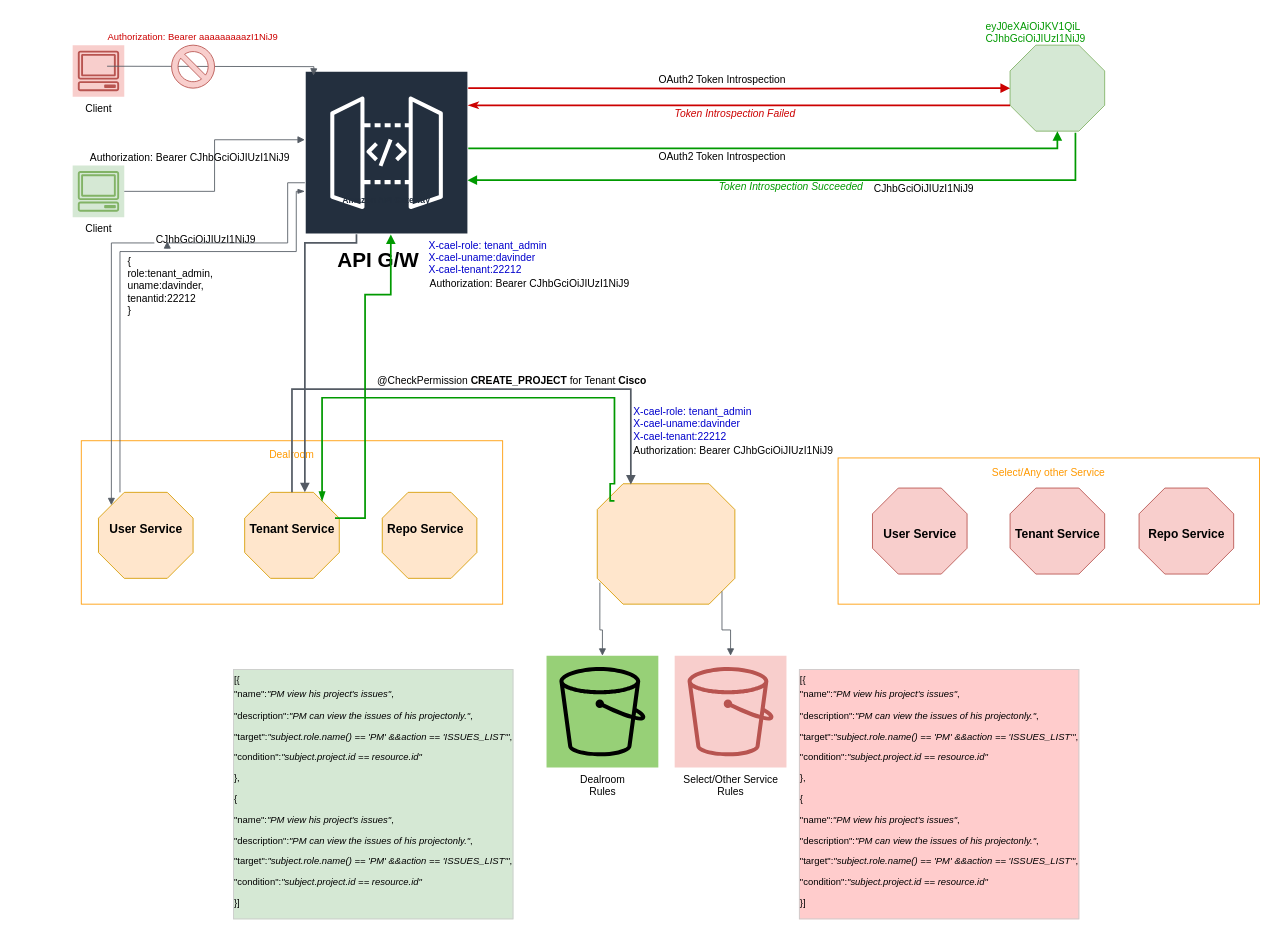
Image size: 1275x933. Some labels were removed from this diagram. Each missing label, with the box of its shape:
Permission Service: (596, 483, 735, 604)
Platform CAS: (1009, 44, 1105, 131)
